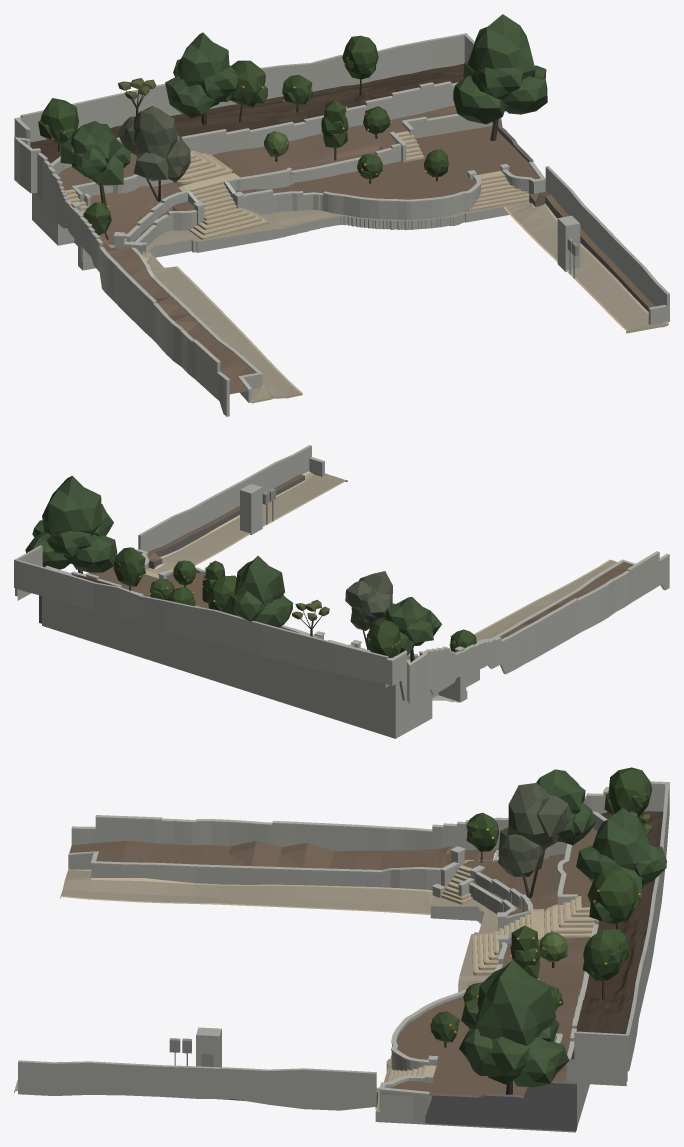
The model's file is reconstruction-a288462fb2ba.glb.
The picture shows the model from 3 angles, top to bottom: view 1: azimuth 30°, elevation 25°; view 2: azimuth 150°, elevation 25°; view 3: azimuth 270°, elevation 25°; orthographic projection. The views are drawn at different scales.
Visible parts, largest first — view 1: ground-terraces, wall-west-boundary-rear, wall-rear-boundary, ground-side-west, planting-tree-14, wall-wa, ground-side-east, planting-tree-03, wall-we, planting-tree-01, wall-east-side-boundary, wall-wb (+23 smaller); view 2: ground-terraces, wall-rear-boundary, wall-west-boundary-rear, planting-tree-14, wall-east-side-boundary, ground-side-east, planting-tree-03, ground-side-west, planting-tree-01, planting-tree-02, planter-fill-east-side, coping-west-boundary-rear (+8 smaller); view 3: ground-terraces, ground-side-west, wall-east-side-boundary, planting-tree-14, wall-west-boundary-rear, wall-west-side-retaining, slot-filler-east, planting-tree-01, planting-tree-03, wall-rear-boundary, wall-rear-boundary-return-east, planting-tree-04 (+19 smaller).
Part boxes in pixels (box(x1,y1,x2,y2)): ground-terraces: box(30, 63, 538, 270); wall-west-boundary-rear: box(14, 119, 229, 416); wall-rear-boundary: box(20, 33, 467, 142); ground-side-west: box(99, 235, 302, 403); planting-tree-14: box(453, 14, 547, 140); wall-wa: box(81, 164, 545, 260); ground-side-east: box(503, 202, 668, 333); planting-tree-03: box(165, 32, 238, 125); wall-we: box(183, 84, 454, 154); planting-tree-01: box(117, 106, 190, 201); wall-east-side-boundary: box(545, 166, 669, 325); wall-wb: box(130, 116, 492, 241); ground-terraces: box(17, 566, 479, 738); wall-rear-boundary: box(14, 559, 388, 683); wall-west-boundary-rear: box(387, 553, 669, 703); planting-tree-14: box(25, 476, 117, 573); wall-east-side-boundary: box(138, 445, 324, 551); ground-side-east: box(154, 471, 347, 571); planting-tree-03: box(224, 556, 293, 627); ground-side-west: box(449, 559, 631, 650); planting-tree-01: box(345, 571, 395, 649); planting-tree-02: box(383, 597, 441, 661); planter-fill-east-side: box(148, 474, 304, 568); coping-west-boundary-rear: box(387, 551, 669, 666); ground-terraces: box(375, 811, 663, 1132); ground-side-west: box(60, 840, 495, 914); wall-east-side-boundary: box(18, 1060, 376, 1110); planting-tree-14: box(459, 960, 569, 1094); wall-west-boundary-rear: box(71, 784, 669, 852); wall-west-side-retaining: box(68, 854, 440, 890); slot-filler-east: box(425, 1081, 576, 1131); planting-tree-01: box(498, 783, 571, 898); planting-tree-03: box(576, 808, 666, 899); wall-rear-boundary: box(625, 783, 669, 1071); wall-rear-boundary-return-east: box(574, 1031, 627, 1081); planting-tree-04: box(587, 869, 640, 929).
Bounding box in the file's own units: 36.52 × 10.78 × 35.19.
